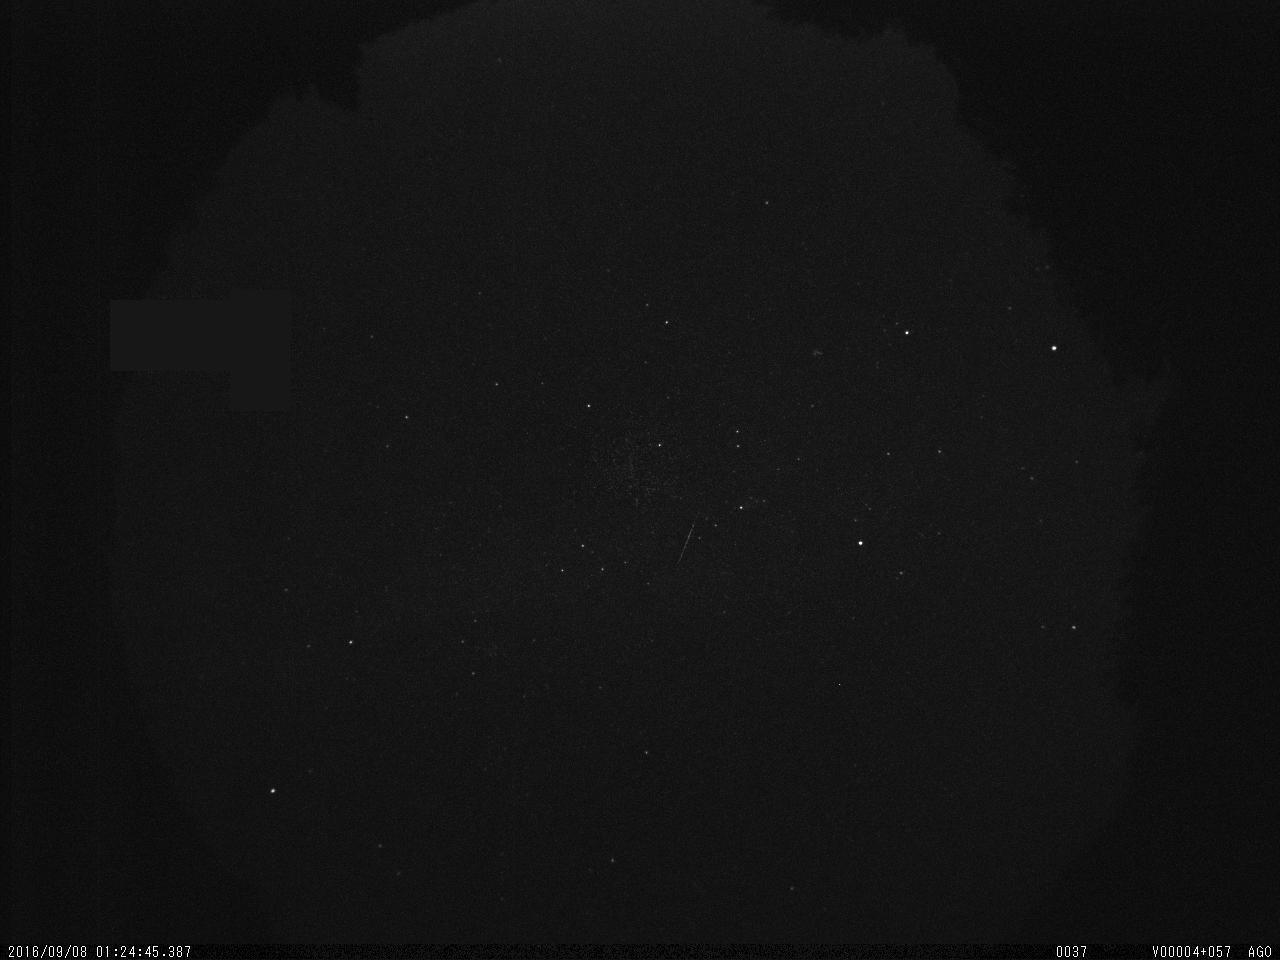meteor: (617, 472, 779, 607)
